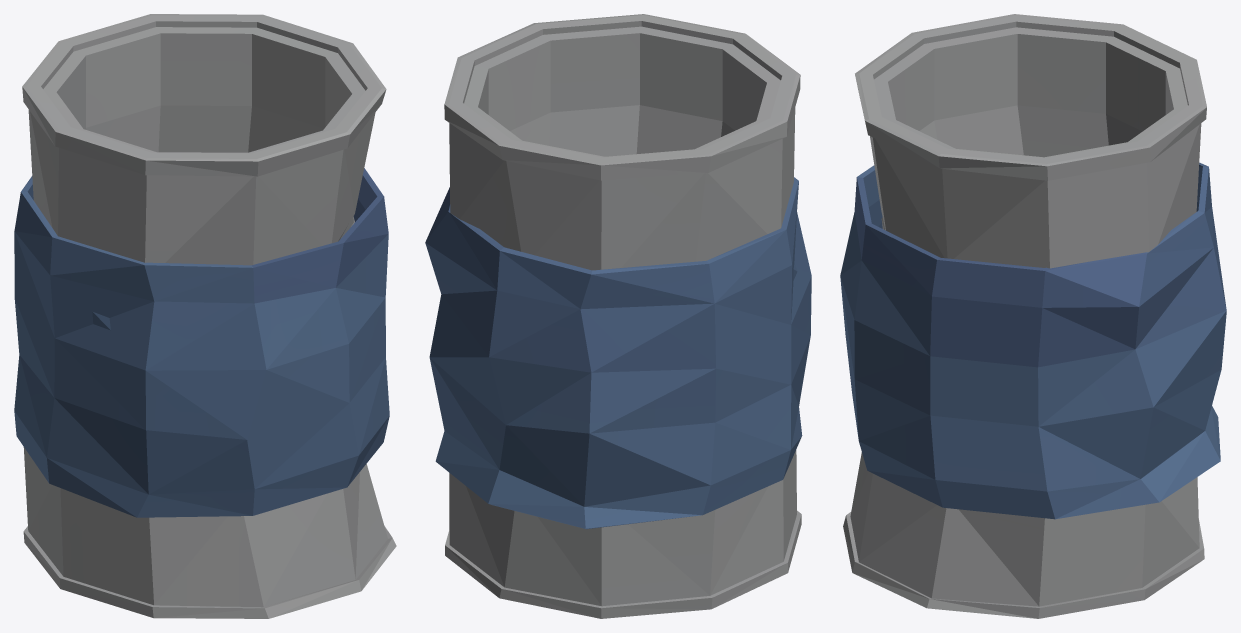
Rendered from can_1_opened.obj.
The picture shows the model from 3 angles, left to right: view 1: azimuth 30°, elevation 25°; view 2: azimuth 150°, elevation 25°; view 3: azimuth 270°, elevation 25°; orthographic projection.
Visible parts, largest first — view 1: can_1_opened_Mesh; view 2: can_1_opened_Mesh; view 3: can_1_opened_Mesh.
Boxes of the visible parts, x1,y1,x2,y2 form: can_1_opened_Mesh: [14, 14, 396, 618]; can_1_opened_Mesh: [425, 14, 811, 618]; can_1_opened_Mesh: [840, 14, 1226, 618].
Bounding box in the file's own units: 0.113 × 0.1517 × 0.1175.
